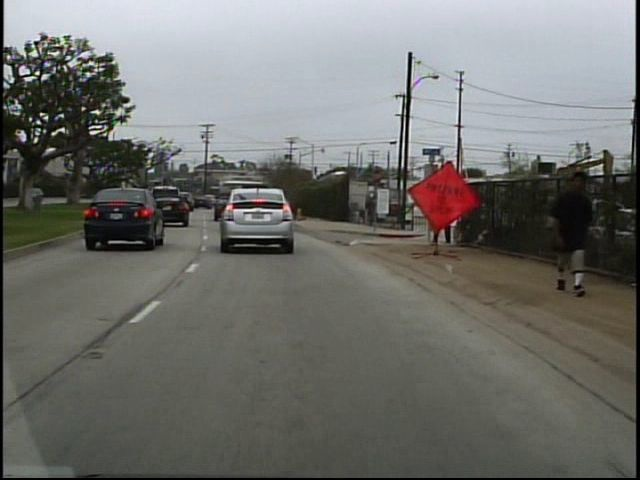person: (540, 163, 591, 302), (426, 183, 461, 248)
